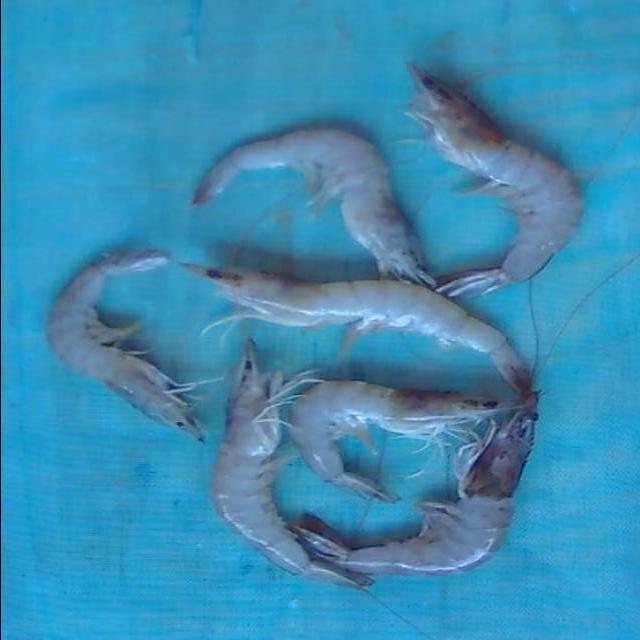shrimp: (181, 264, 530, 395), (291, 396, 536, 576), (408, 65, 581, 297), (211, 341, 371, 591), (192, 131, 436, 288), (46, 249, 202, 442), (289, 382, 524, 503)
